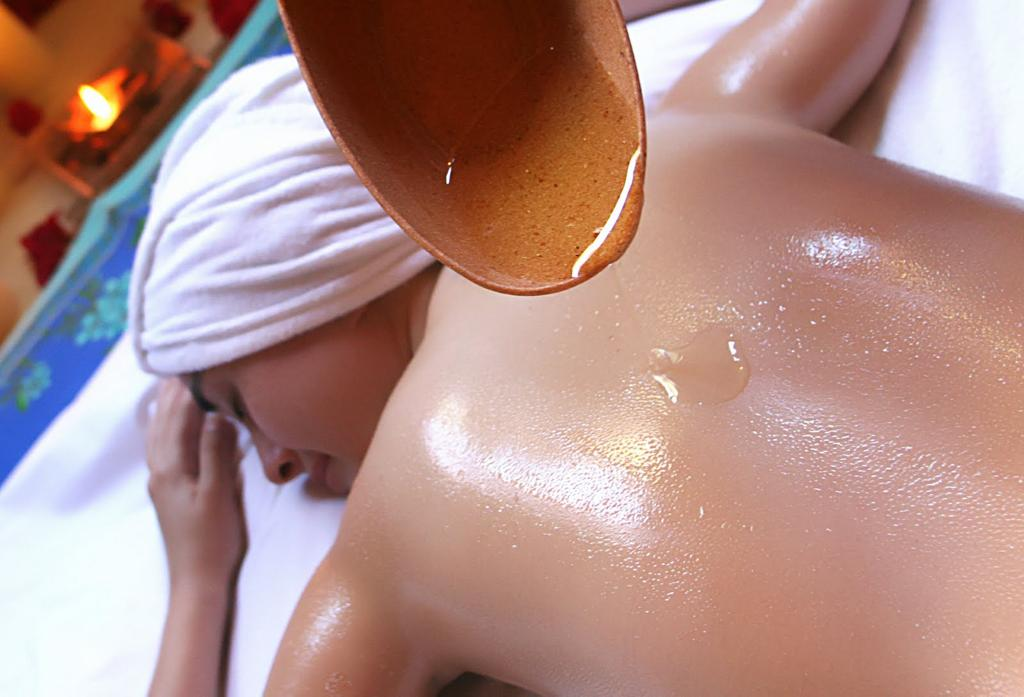face: (160, 350, 382, 508)
